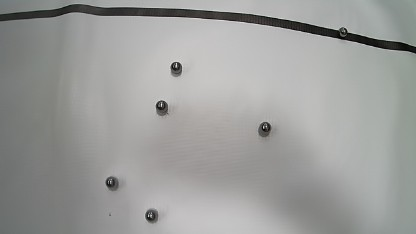ironball: (258, 121, 271, 137), (155, 100, 168, 115), (145, 208, 158, 222), (105, 176, 118, 190), (170, 61, 182, 75), (338, 27, 347, 37)
